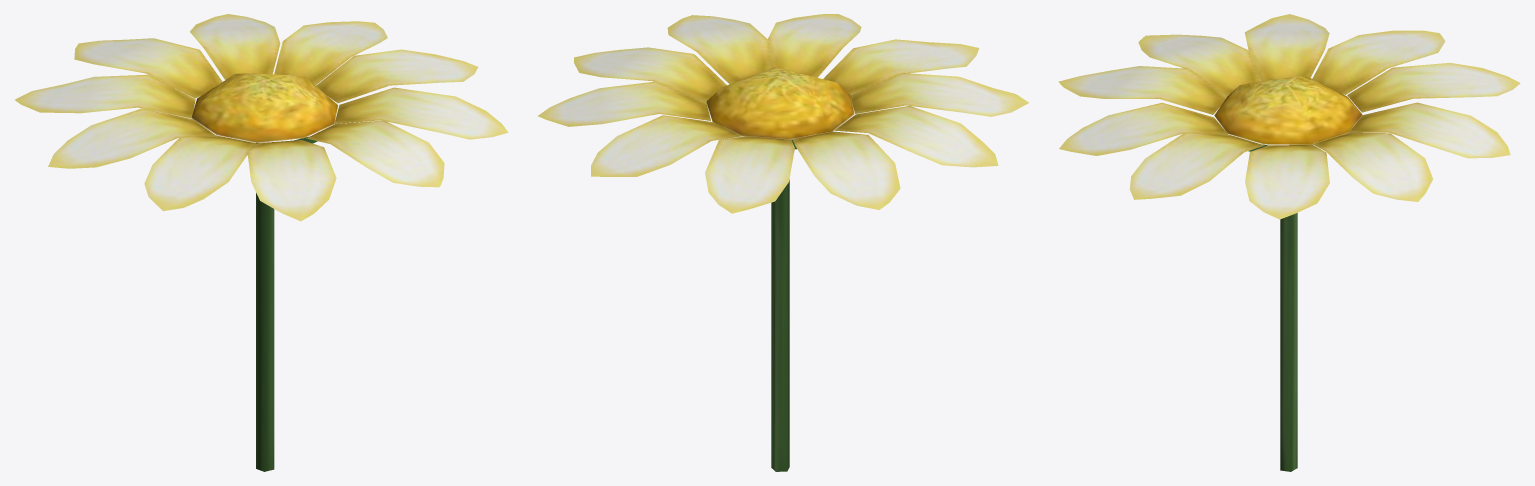
File: DG_flower.glb
The picture shows the model from 3 angles, left to right: view 1: azimuth 30°, elevation 25°; view 2: azimuth 150°, elevation 25°; view 3: azimuth 270°, elevation 25°; orthographic projection. The views are drawn at different scales.
Visible parts, largest first — view 1: flower; view 2: flower; view 3: flower.
Boxes of the visible parts, x1,y1,x2,y2 form: flower: (15, 14, 508, 471); flower: (537, 14, 1028, 471); flower: (1058, 14, 1520, 471).
Bounding box in the file's own units: 8.85 × 7.71 × 8.42.
Materials: 2 (2 with a texture image).
